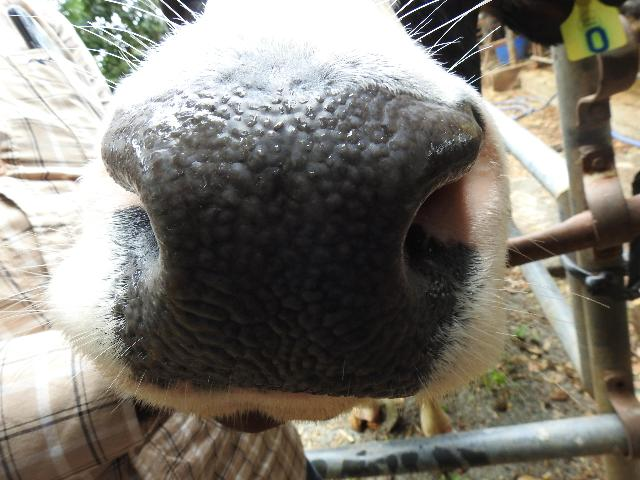Muzzle: (117, 96, 430, 386)
